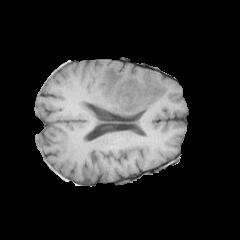glioma: (92, 66, 168, 115)
